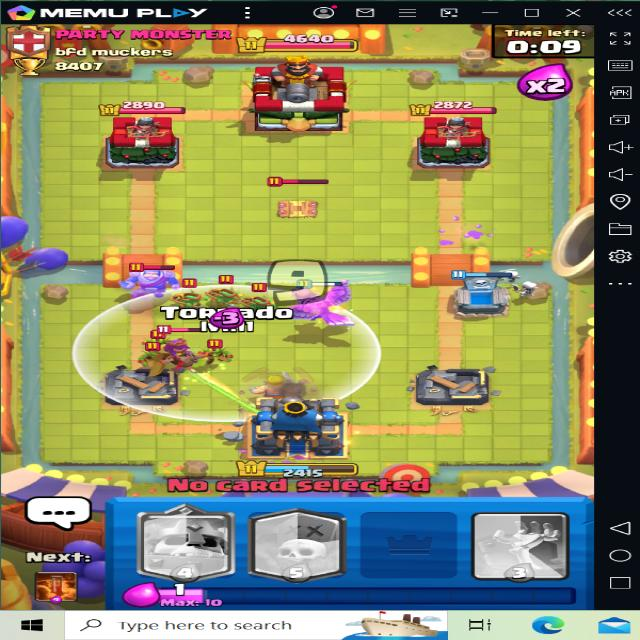Goblin: (204, 333, 242, 371), (137, 336, 171, 366), (144, 322, 176, 352)
Knight: (121, 258, 179, 293)
Queen: (162, 326, 202, 377)
Speargoblin: (174, 280, 205, 316), (249, 278, 272, 321), (216, 282, 248, 312)
Teslahidden: (250, 177, 333, 228)
